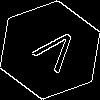V: (25, 25, 83, 81)
